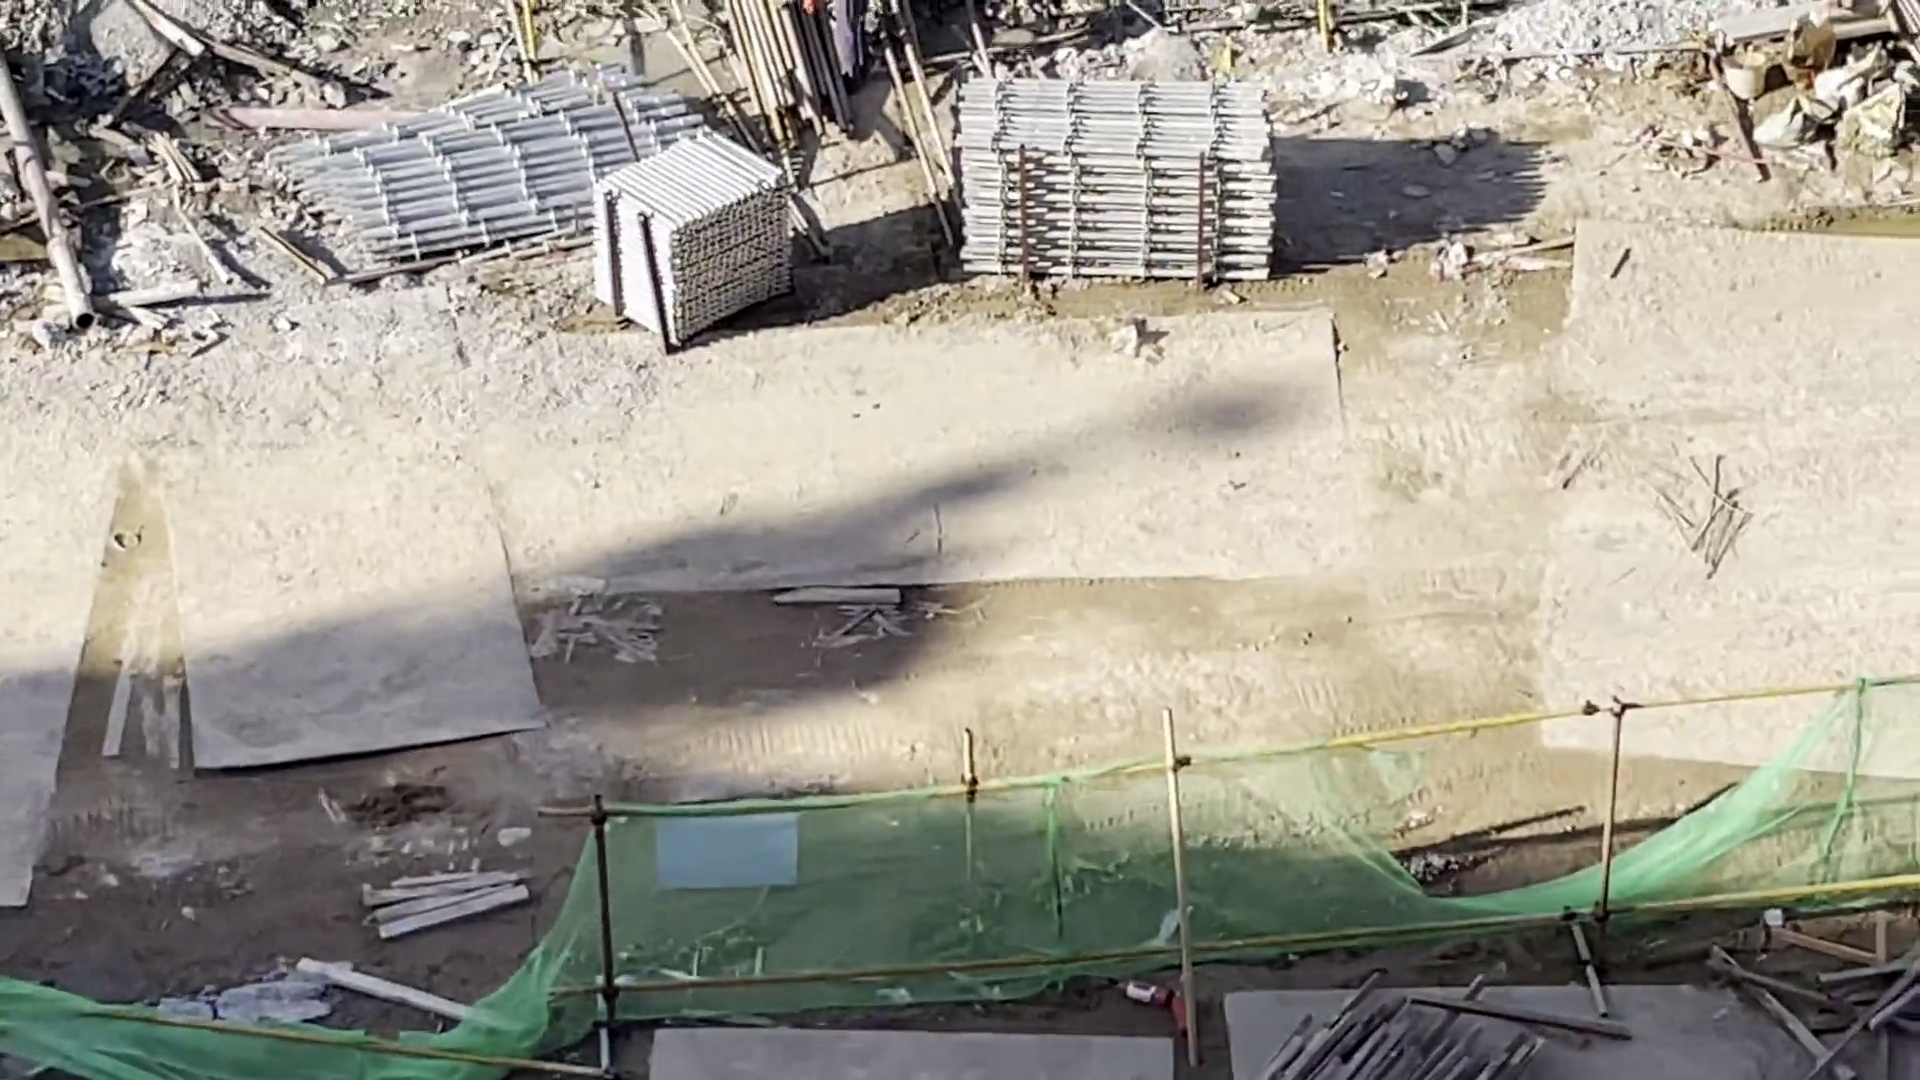scaffold: (289, 66, 721, 261), (934, 76, 1291, 274), (604, 141, 785, 319)
